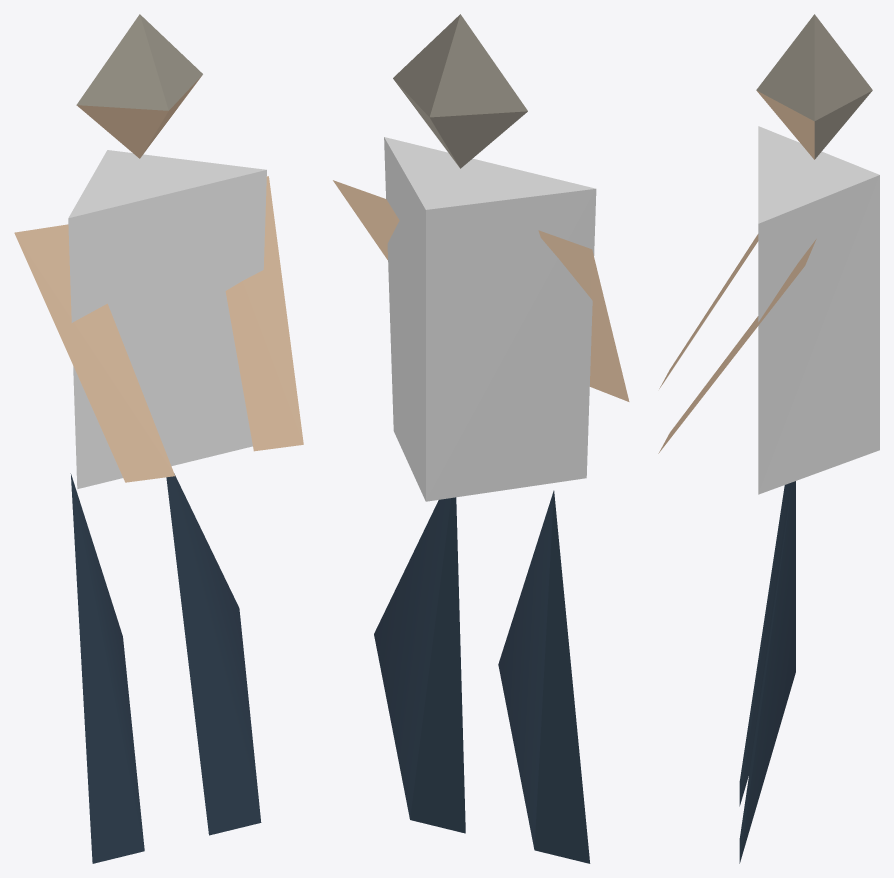
File: fan-08.glb
3 views of the same model, side by side, from view 1: azimuth 30°, elevation 25°; view 2: azimuth 150°, elevation 25°; view 3: azimuth 270°, elevation 25° (orthographic). The views are drawn at different scales.
Parts seen in each view (by area): view 1: fan-08; view 2: fan-08; view 3: fan-08.
Part boxes in pixels (x1,y1,x2,y2): fan-08: [14, 14, 303, 863]; fan-08: [333, 14, 629, 863]; fan-08: [658, 14, 879, 863].
Bounding box in the file's own units: 0.62 × 1.91 × 0.475.
